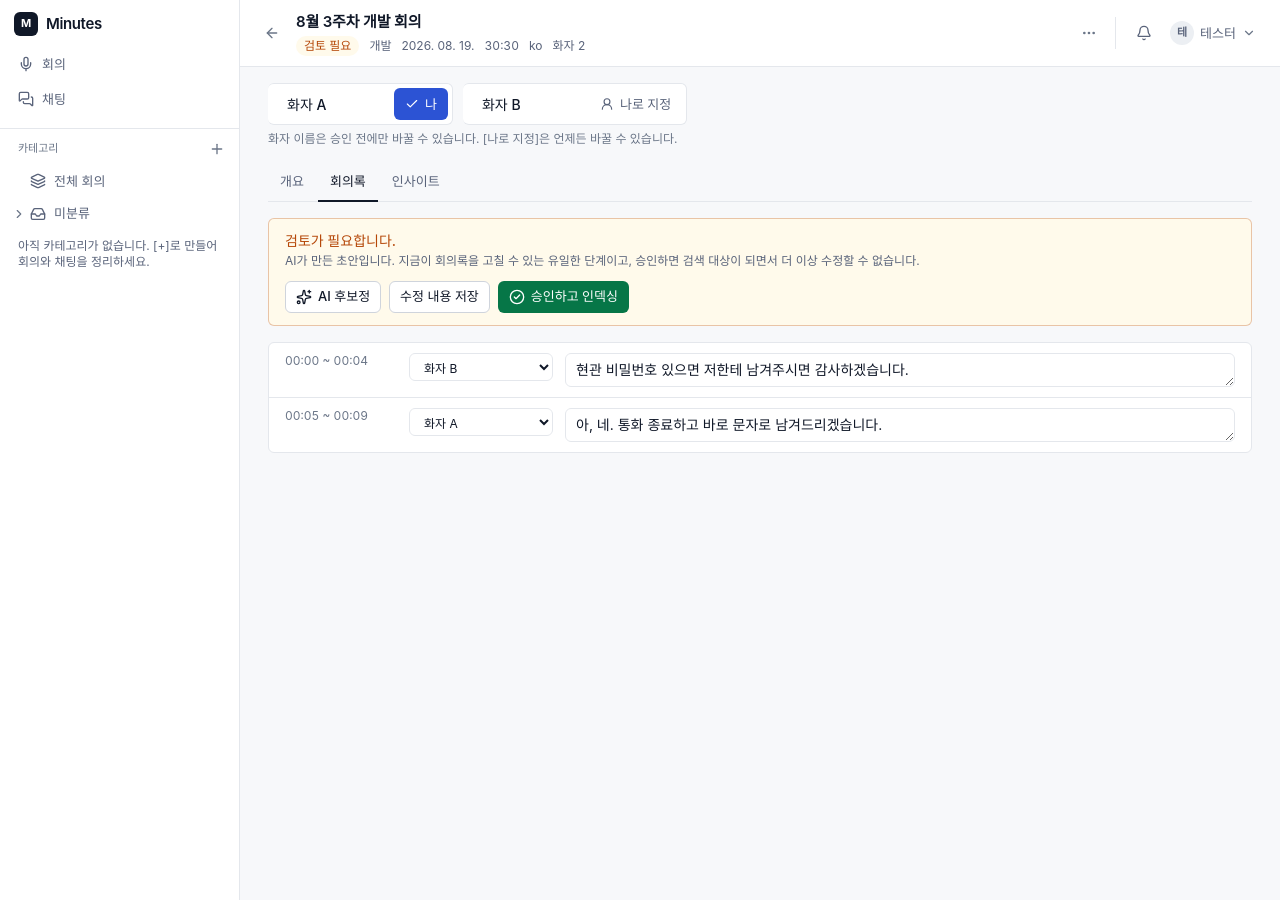
회의록 검토 (HITL) › AI 후보정은 제안일 뿐이고 반영해도 저장되지 않는다
Click the button "AI 후보정" at x=333, y=297, box [285,281,381,313]
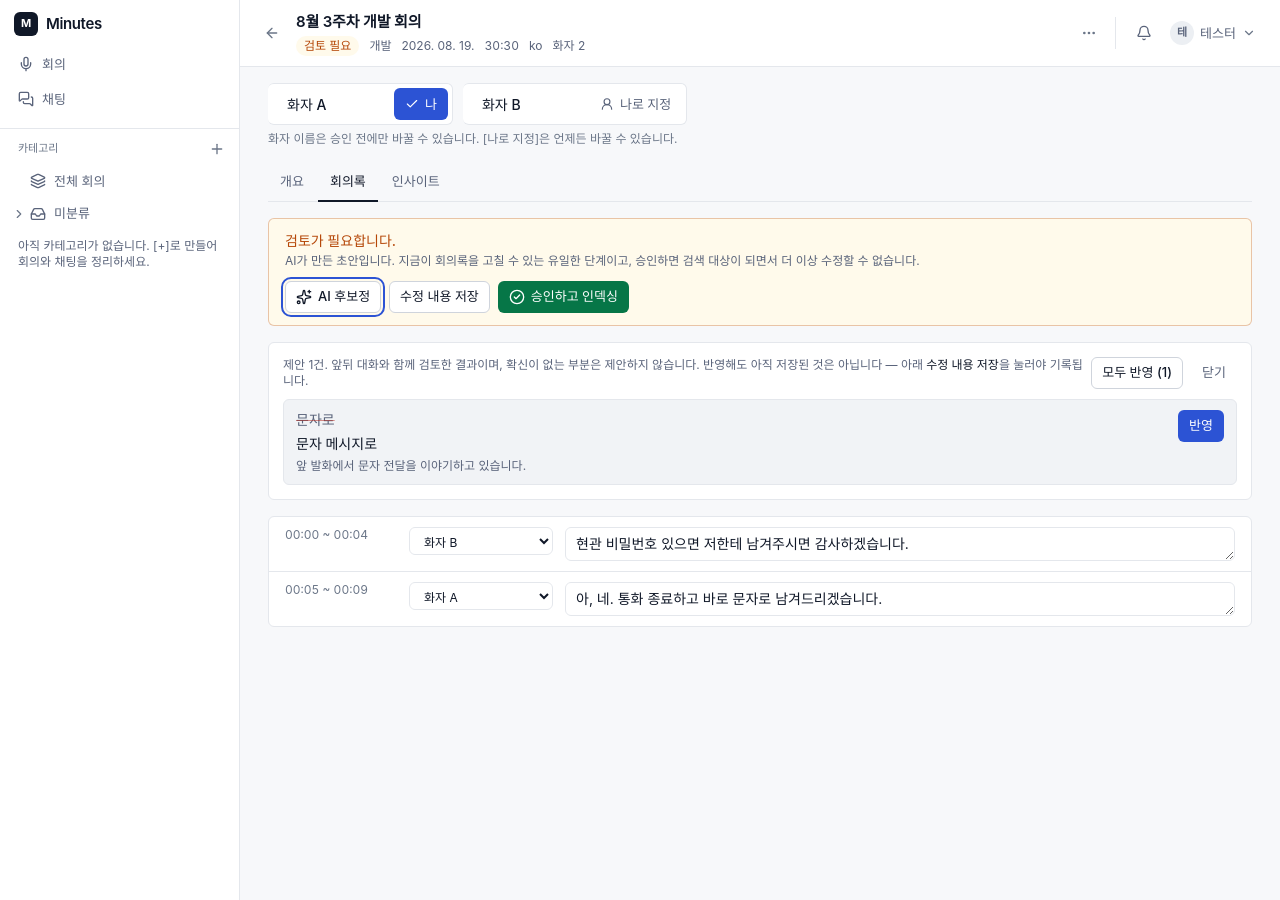
Expected: the text "문자 메시지로" is shown, [296,435,377,452]
Expected: the text "눌러야 기록됩니다" is shown, [283,357,1083,388]
Click the button "반영" at x=1201, y=426, box [1178,410,1224,442]
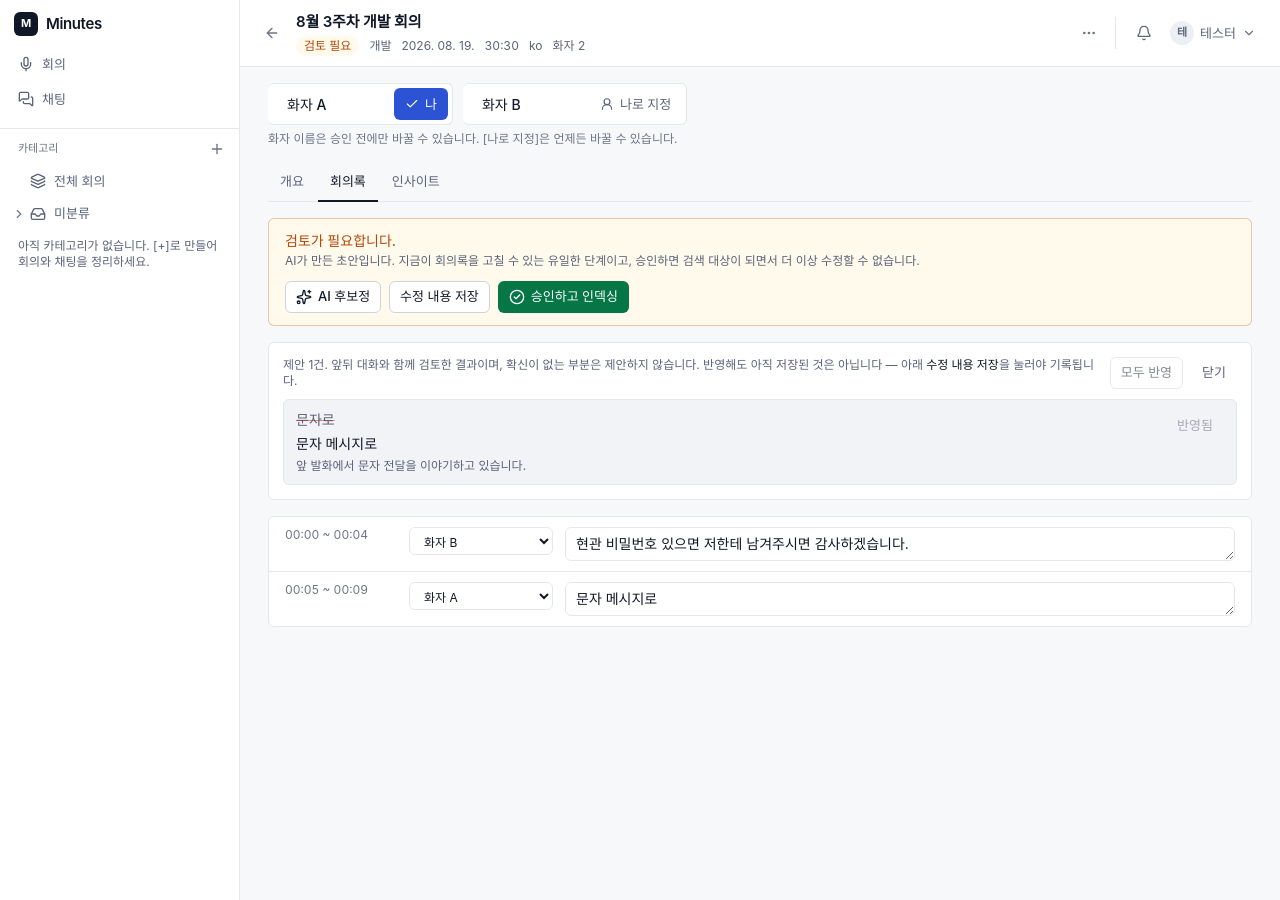
Expected: the text box named "발화 1 내용" holds "문자 메시지로", [565,582,1235,616]
